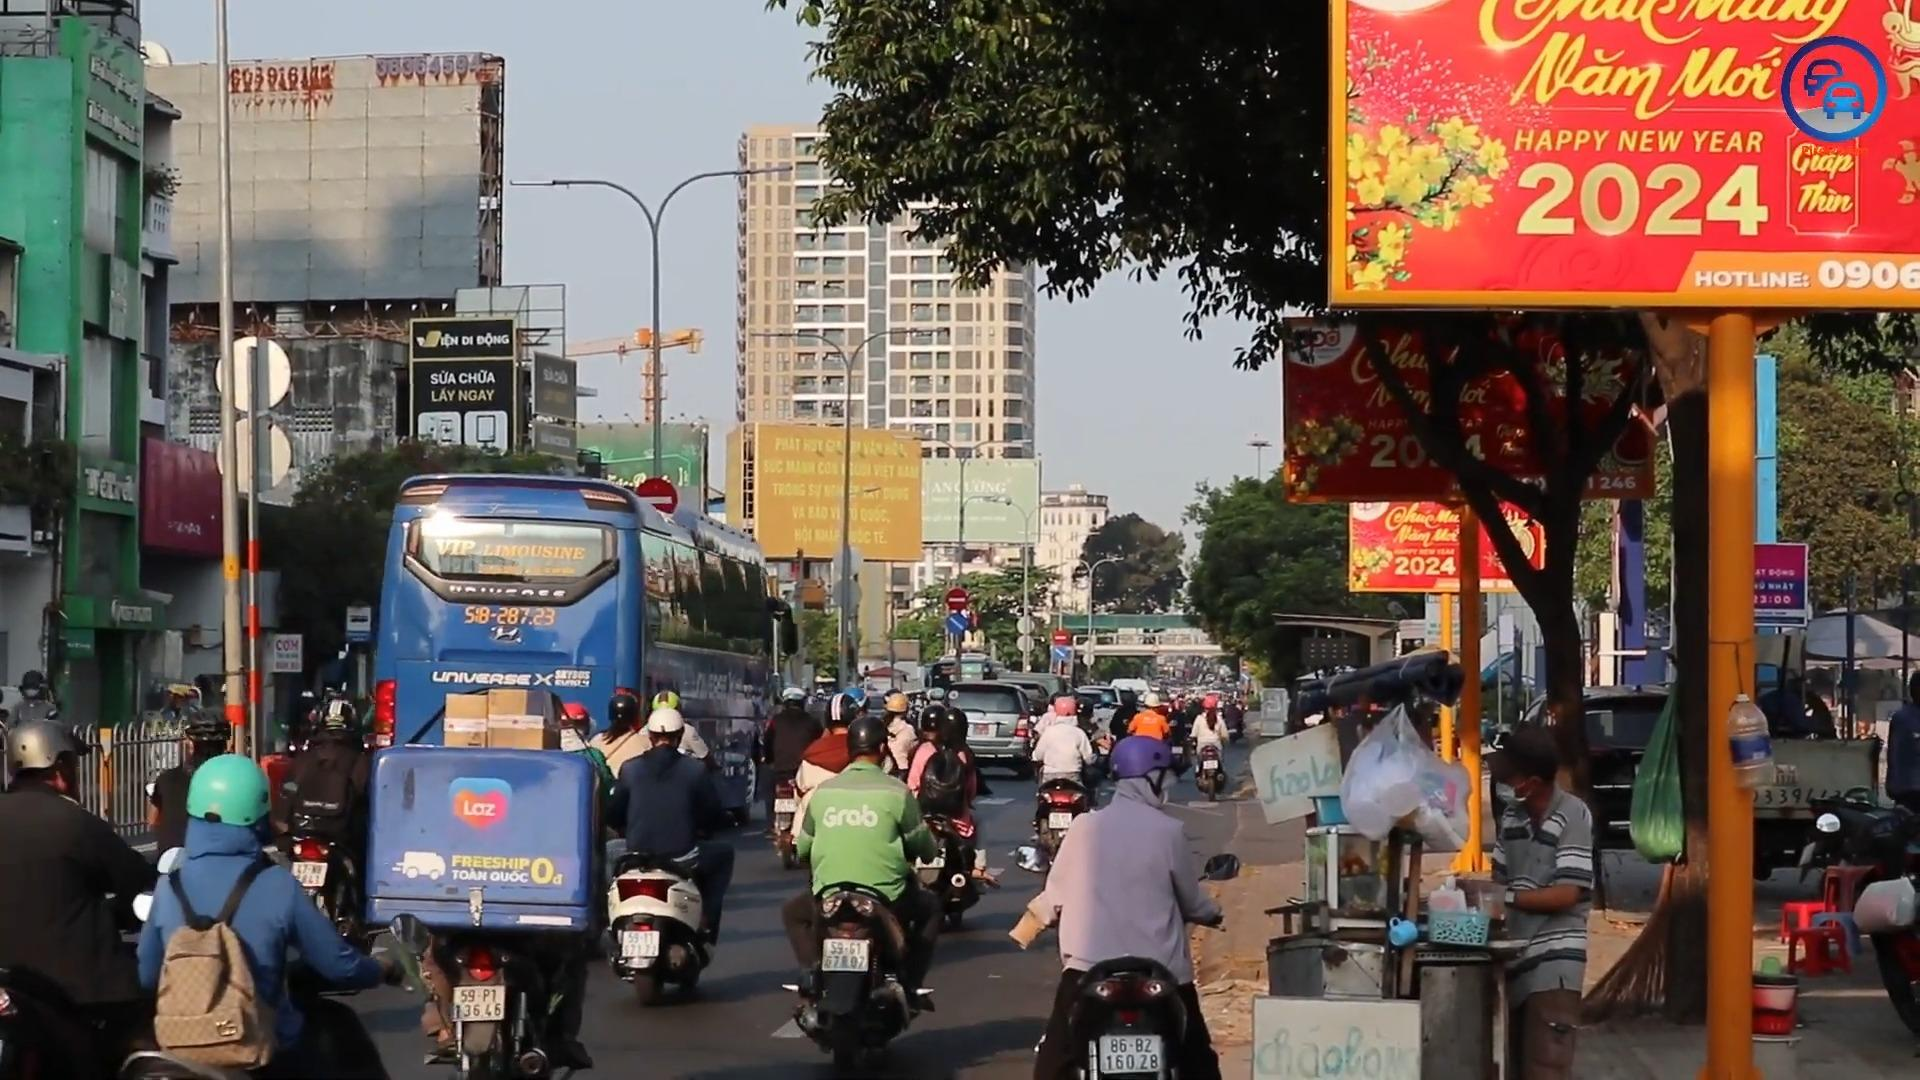bien_so: (1097, 1033, 1165, 1075), (449, 983, 507, 1022), (820, 937, 871, 973), (621, 929, 660, 958)
